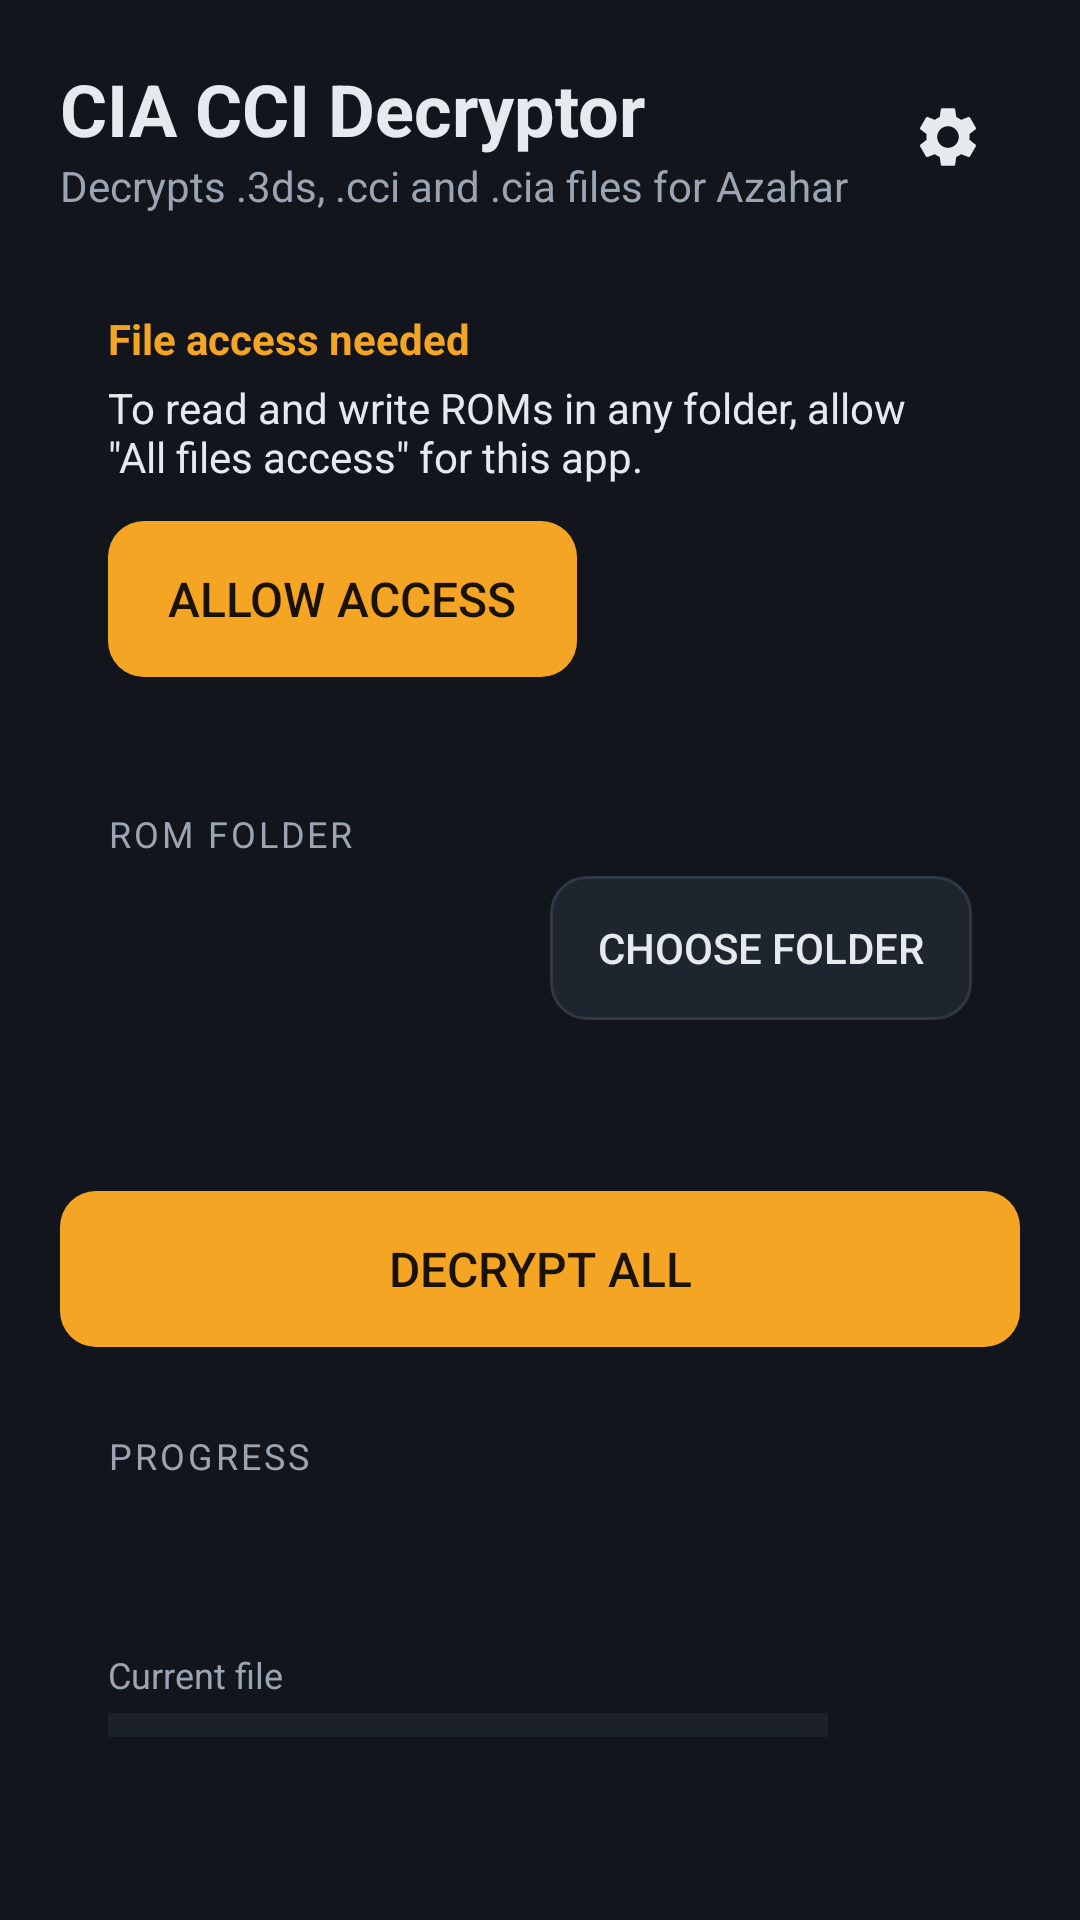

Where to tap for icons on this 1080 × 1920 app screen, as (x=x, y=y):
Settings: (x=948, y=137)
